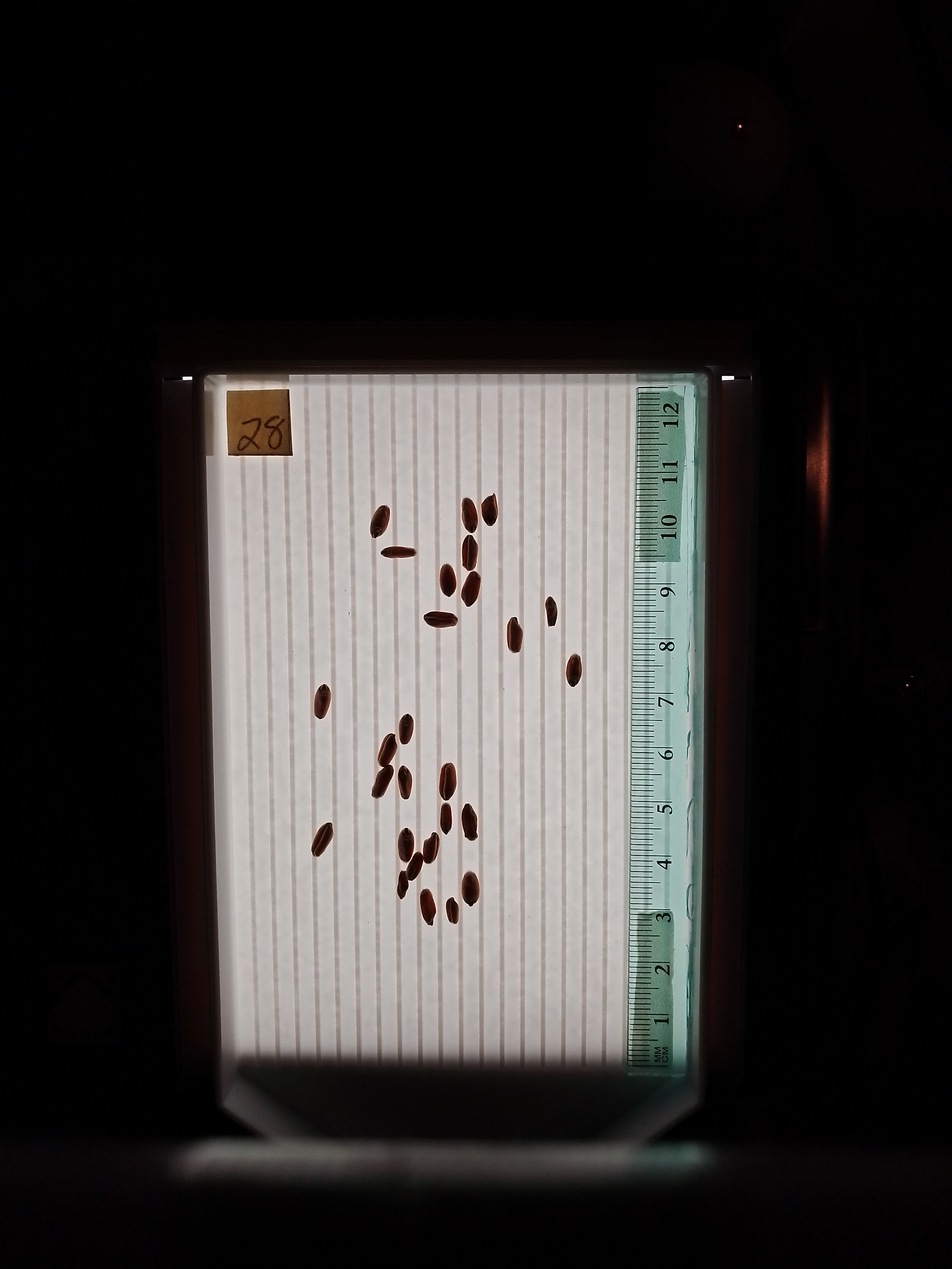seed mask: (312, 823, 333, 857), (372, 766, 393, 798), (370, 505, 390, 537), (313, 685, 331, 719), (439, 763, 456, 799), (462, 574, 481, 606), (378, 734, 397, 766), (461, 536, 478, 571), (461, 804, 477, 841), (507, 617, 523, 653), (398, 829, 415, 862), (462, 873, 479, 906), (425, 612, 457, 628), (566, 655, 582, 687), (462, 498, 477, 532), (420, 890, 435, 924), (440, 565, 456, 596), (398, 766, 413, 799), (482, 496, 499, 525), (398, 714, 414, 744), (423, 834, 439, 863), (407, 853, 423, 881), (382, 546, 415, 559), (440, 805, 453, 832), (546, 597, 558, 626), (446, 898, 459, 923)
